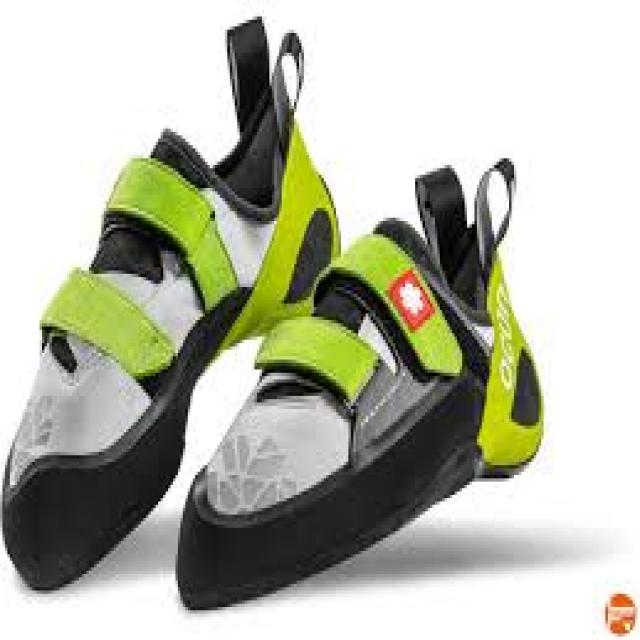climbing-shoes: (4, 18, 342, 596), (174, 155, 546, 613)
